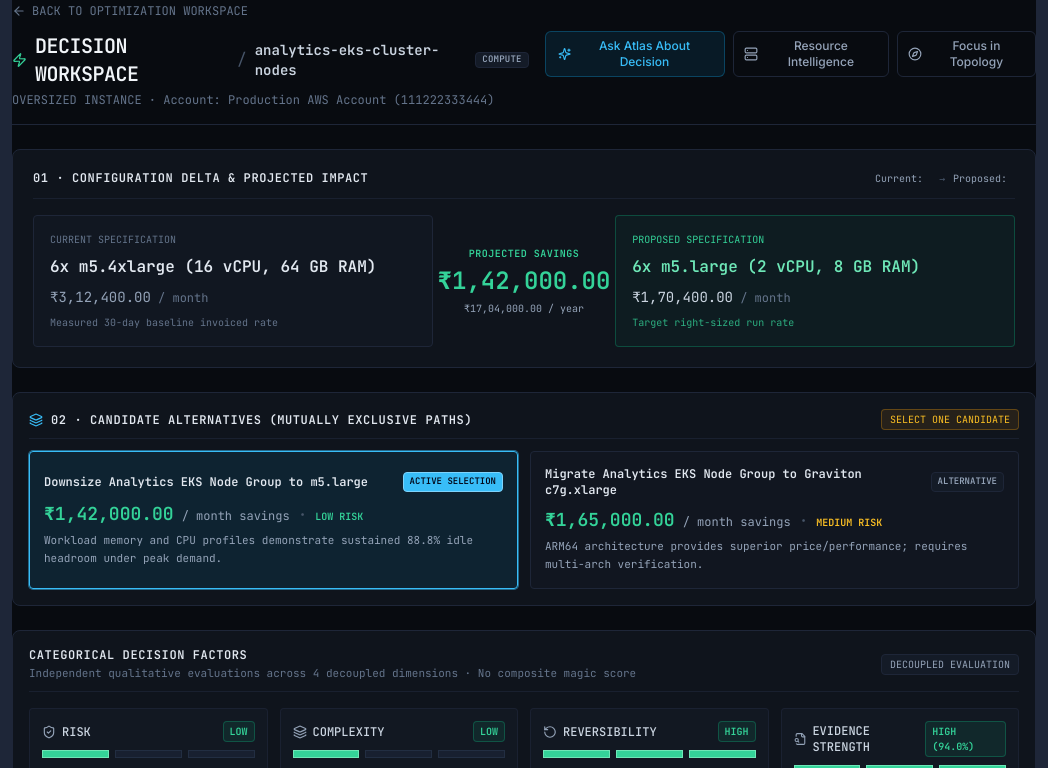
Milestone 6: Optimization Decision Workspace & Categorical Decision Factors › switches between candidate recommendation alternatives updating savings and risk dynamically
Expected: the heading "02 · Candidate Alternatives (Mutually Exclusive Paths)" is shown, [51, 412, 472, 428]
Expected: the text "ACTIVE SELECTION" is shown, [403, 472, 503, 492]
# Find and click the Graviton alternative card button
Click the button with test id "candidate-option-1": (774, 520) [530, 451, 1019, 589]
(page scrolled)
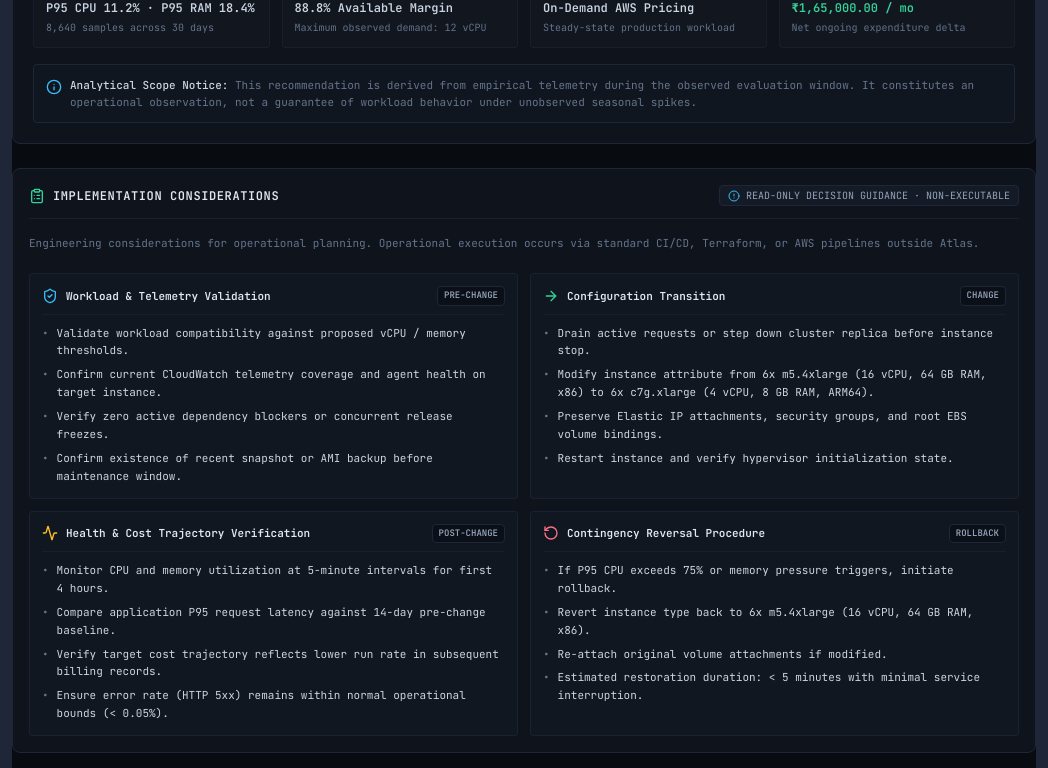
Expected: the text "to 6x c7g.xlarge" is shown, [558, 367, 987, 399]
